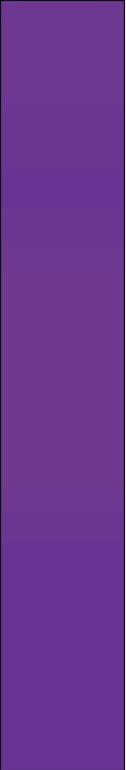safe: (15, 9, 111, 759)
